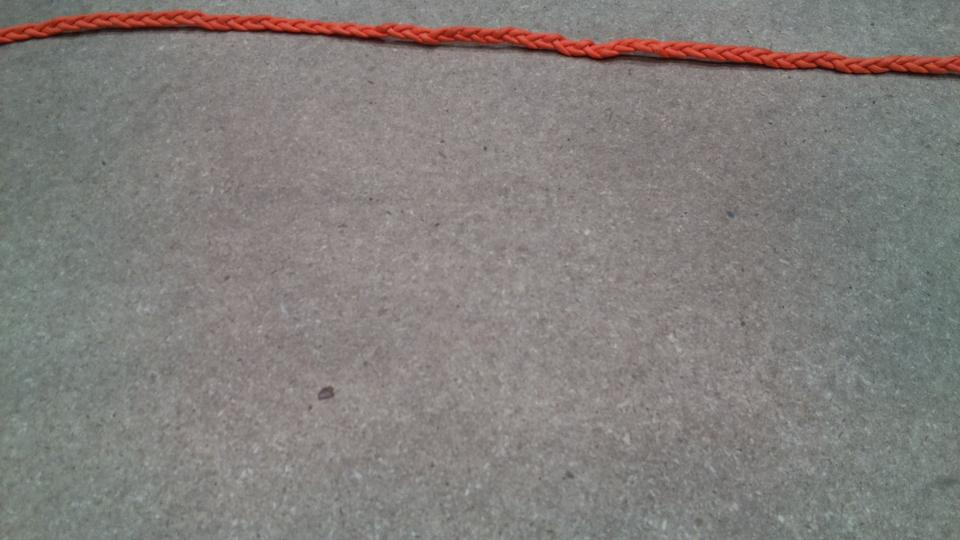rope: (1, 5, 959, 81)
